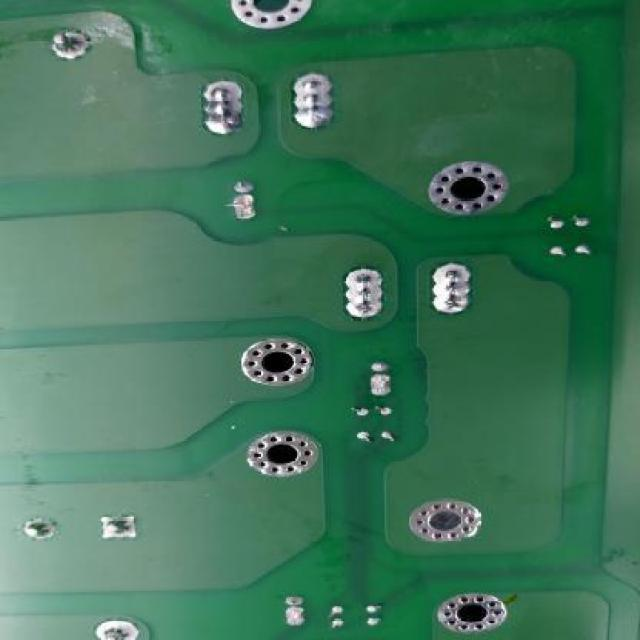Soldering bridge: (336, 264, 387, 326), (427, 256, 476, 318), (291, 70, 334, 132), (202, 77, 241, 140), (368, 373, 392, 399)
